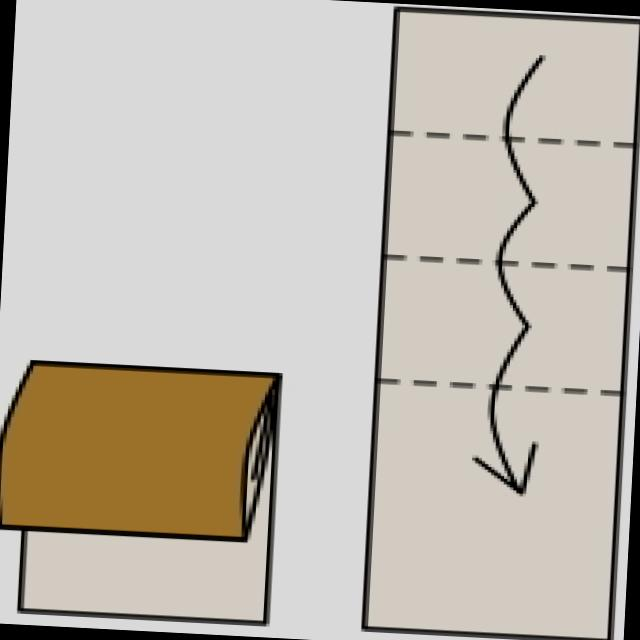arrow: (475, 58, 541, 496), (472, 445, 537, 496)
fold-line: (350, 367, 636, 408), (369, 241, 640, 280), (373, 118, 640, 155)
